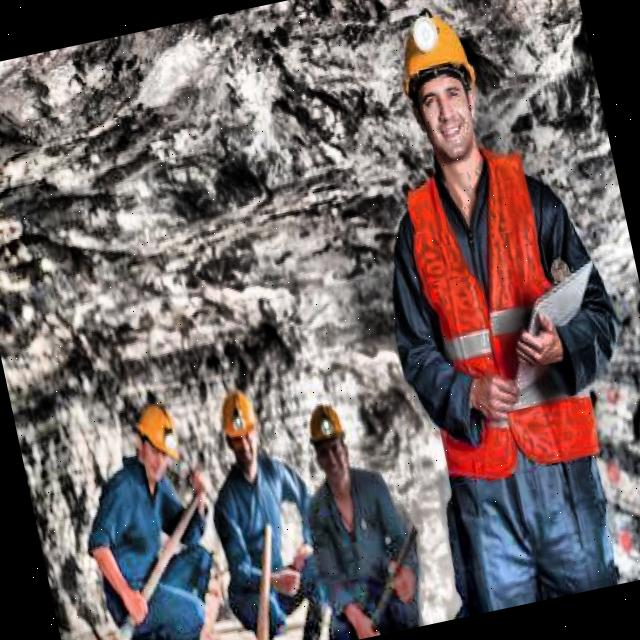helmet: (374, 0, 500, 189), (299, 392, 356, 488), (211, 380, 268, 474), (126, 393, 188, 478)
